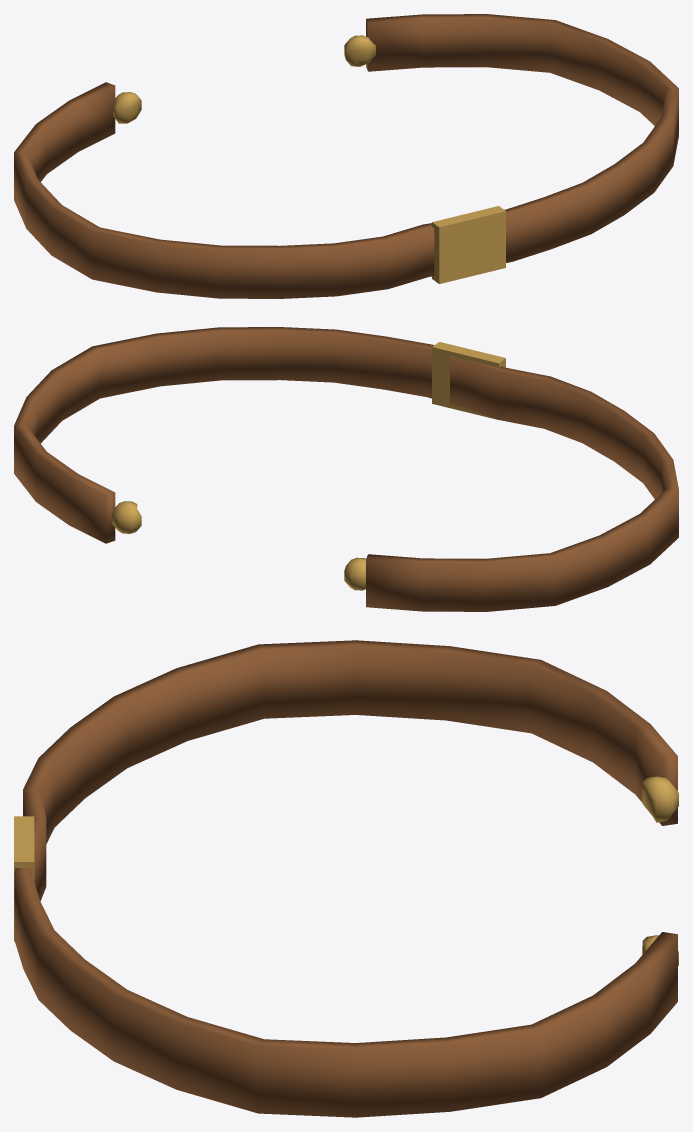
Rendered from Belt.fbx.
3 views of the same model, one above another, from view 1: azimuth 30°, elevation 25°; view 2: azimuth 150°, elevation 25°; view 3: azimuth 270°, elevation 25° (orthographic). The views are drawn at different scales.
Parts seen in each view (by area): view 1: Belt; view 2: Belt; view 3: Belt.
Part boxes in pixels (<box>): Belt: <box>14,14,678,298</box>; Belt: <box>14,327,678,611</box>; Belt: <box>14,640,678,1117</box>.
Bounding box in the file's own units: 0.2869 × 0.026 × 0.1967.
